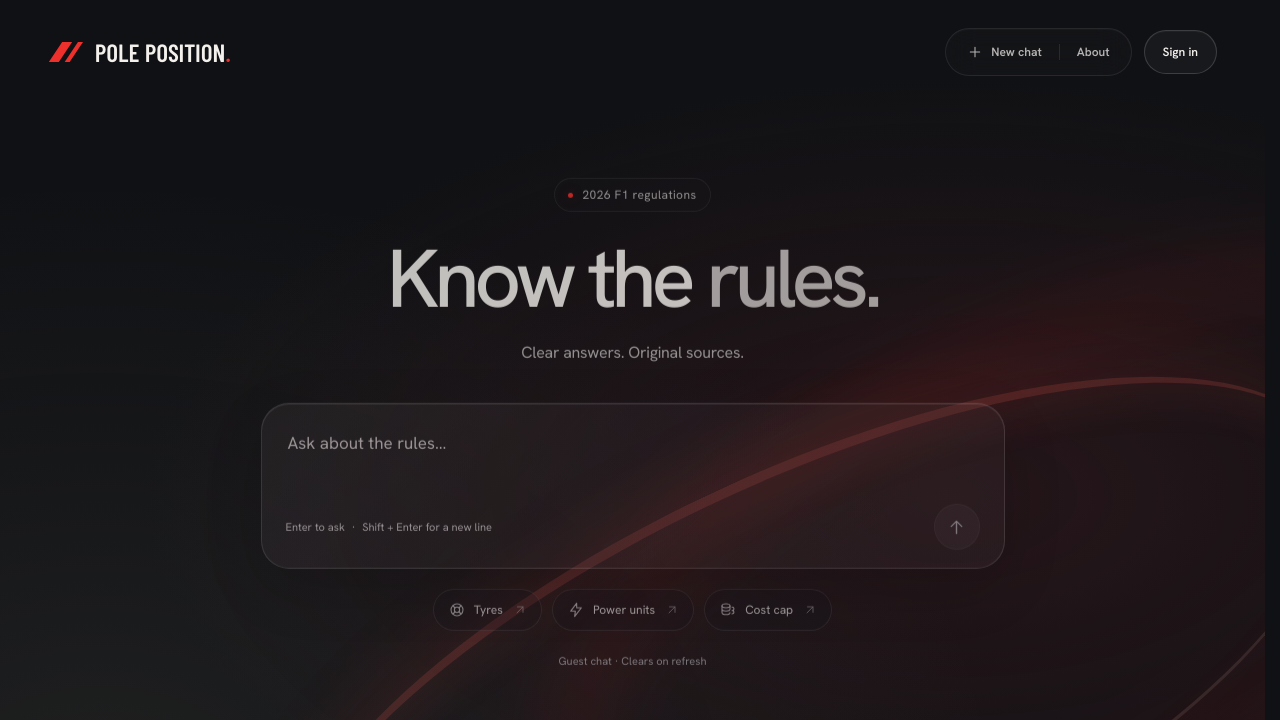
Test case: authentication UI › shows a safe login error for HTTP 401
Click the button "Sign in" at (1180, 52), box top-left (1144, 30), bottom-right (1217, 74)
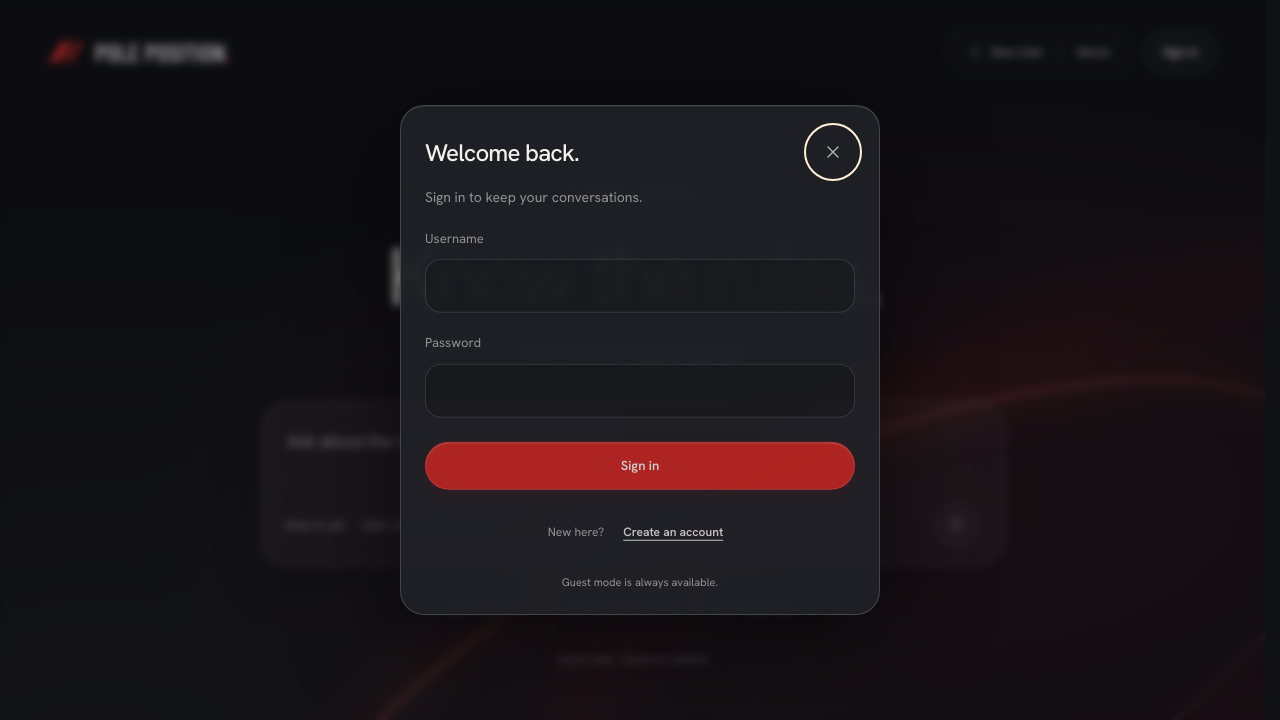
Type "assetk" into the field labelled "Username" at (640, 284), box top-left (425, 258), bottom-right (855, 312)
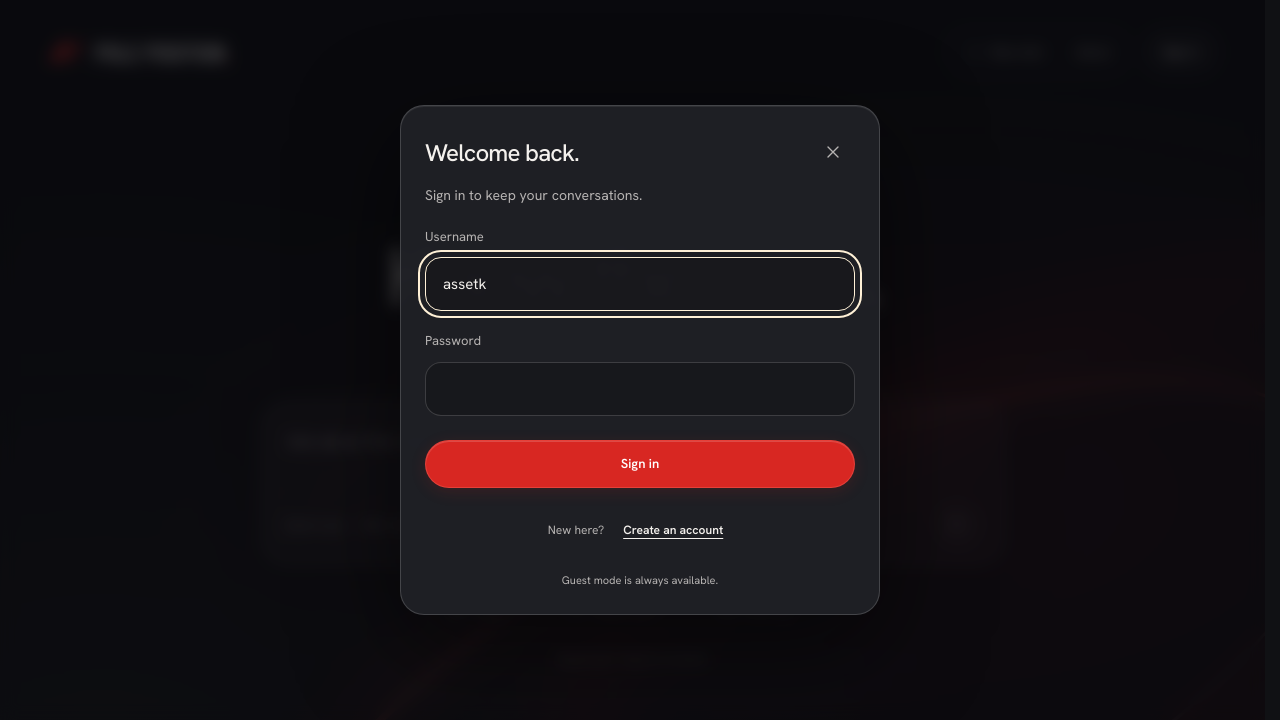
Type "securepassword123" into the password field labelled "Password" at (640, 389), box top-left (425, 362), bottom-right (855, 416)
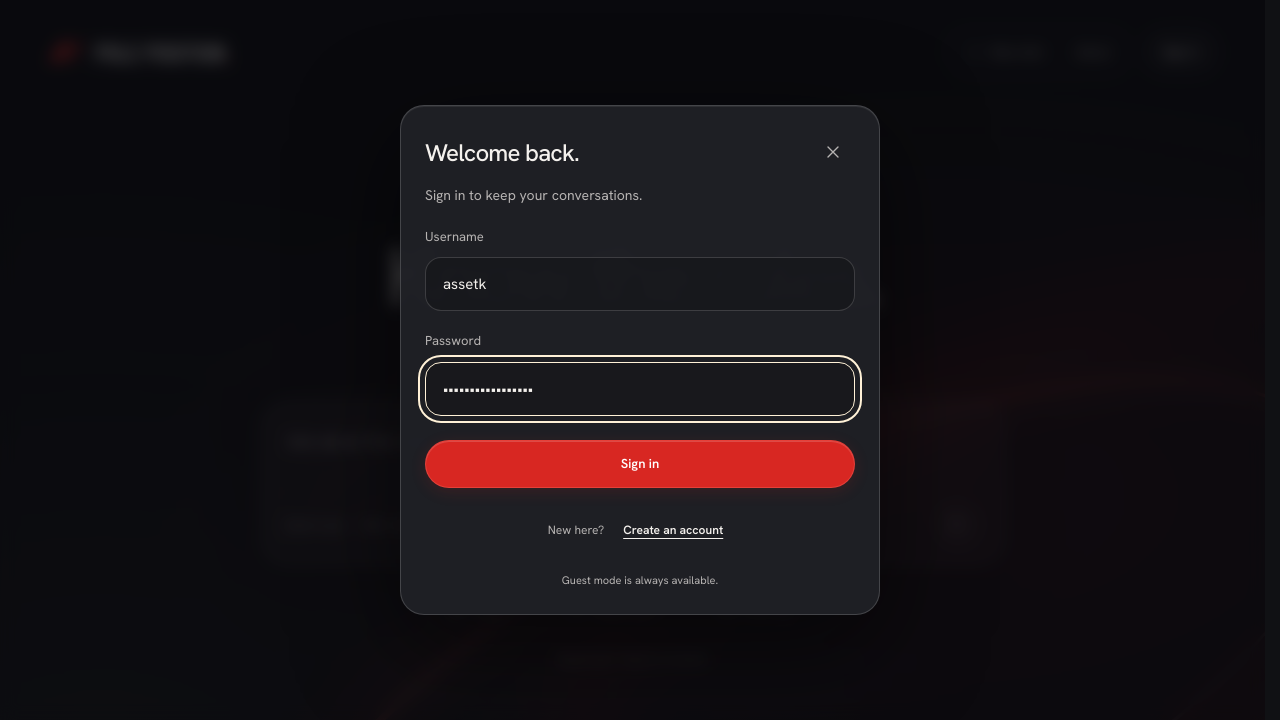
Click the button "Sign in" at (640, 464), box top-left (425, 440), bottom-right (855, 488)
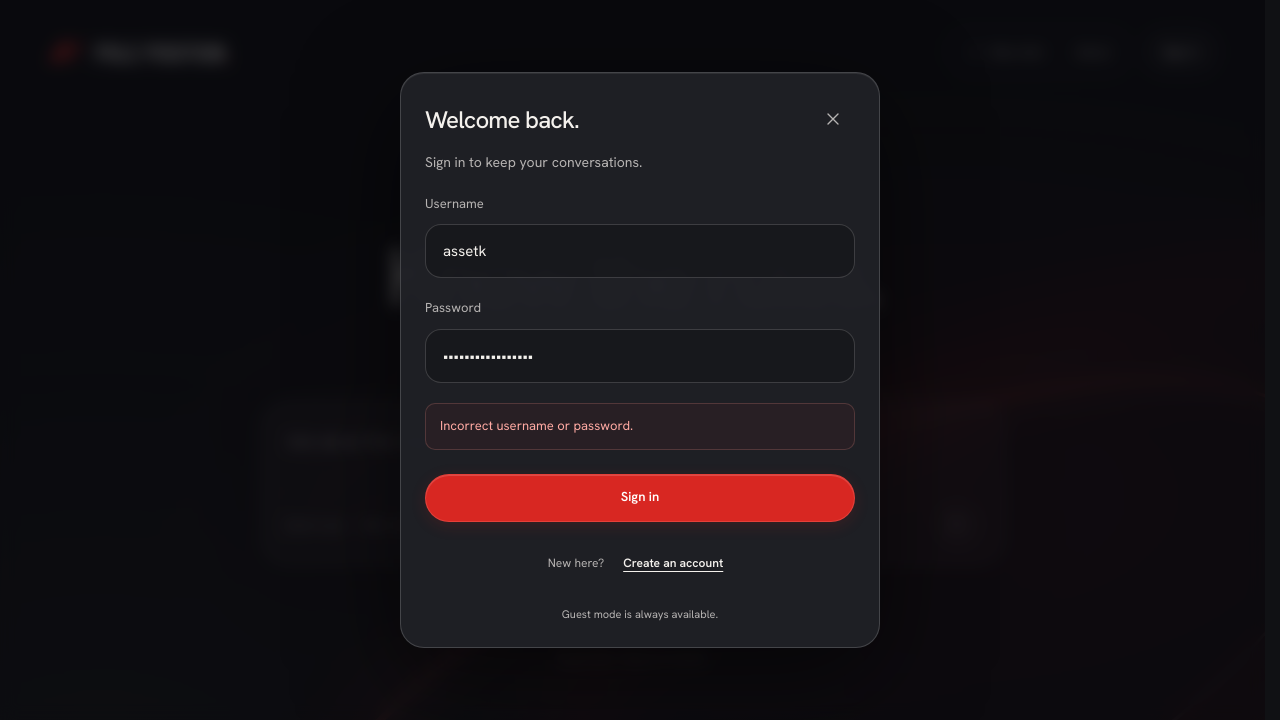
Now the message reads "Incorrect username or password.", box top-left (440, 417), bottom-right (633, 434)
